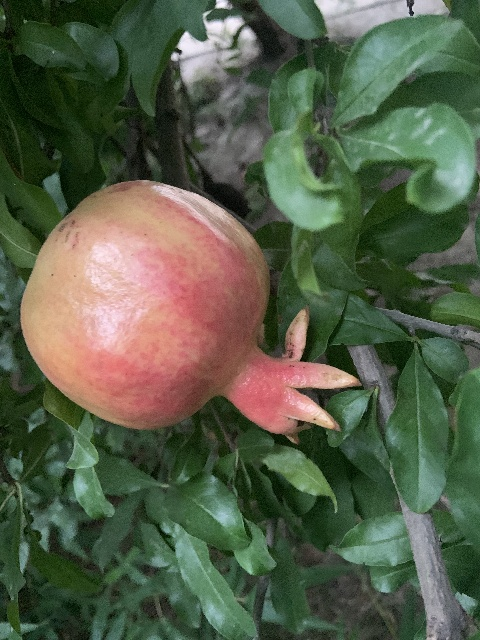ripe: (19, 179, 362, 443)
